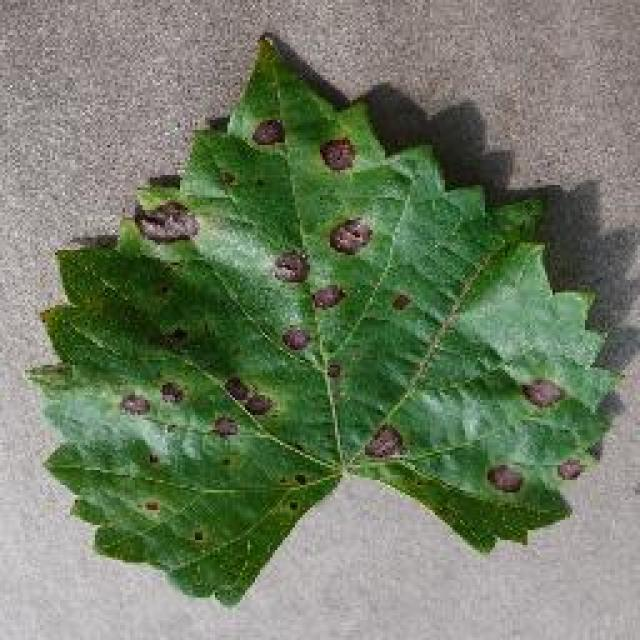Grape___Black_rot: (13, 29, 634, 616)
